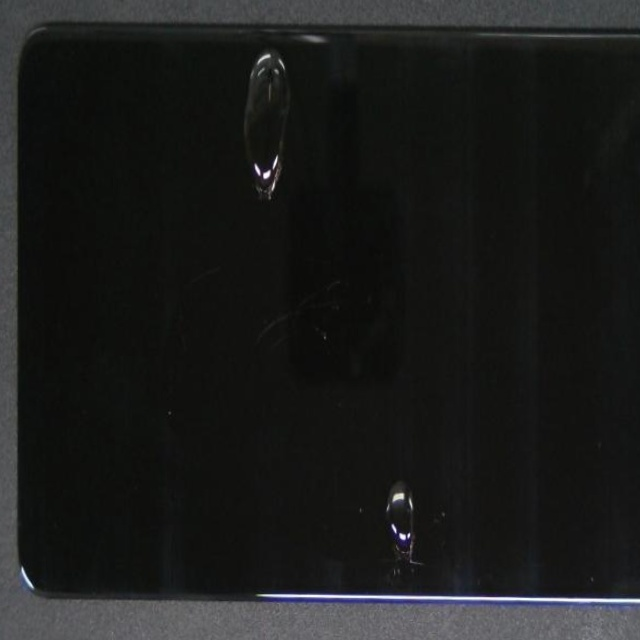oil: (215, 234, 622, 640), (160, 14, 432, 119)
